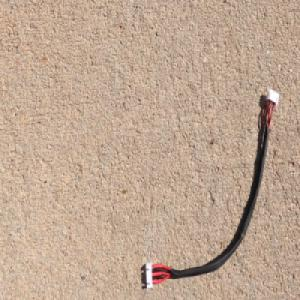Wire: (143, 87, 280, 291)
